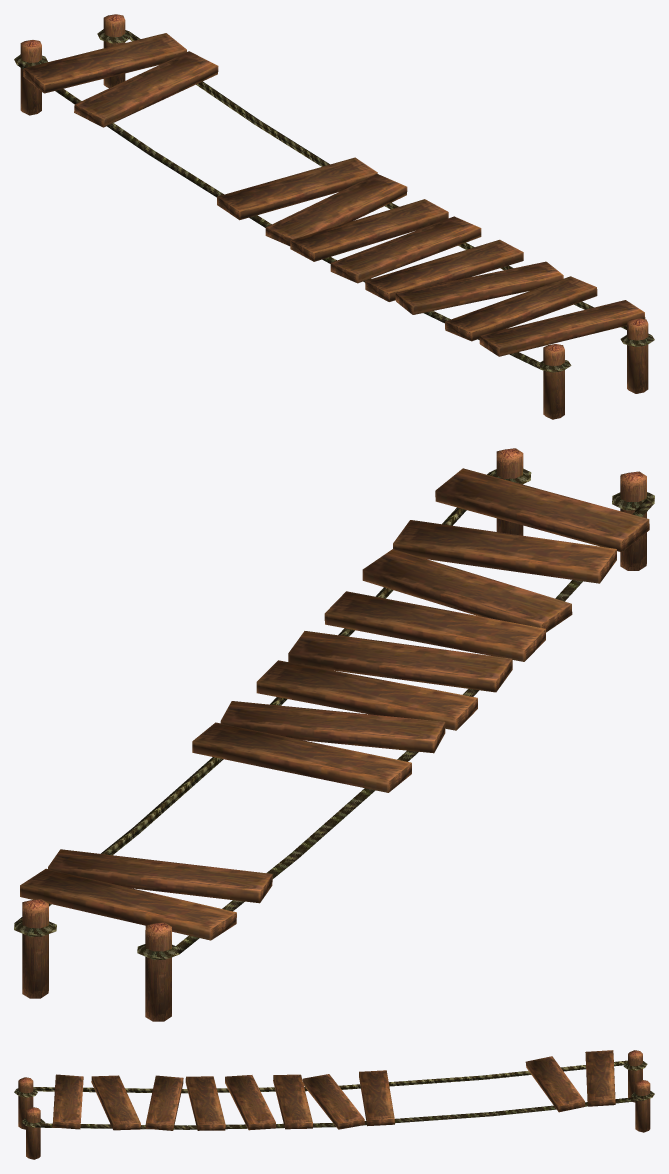
The model's file is SWORDLIGHT20_MAINCAVERNBRIDGE04.fbx.
3 renders of one model, top to bottom at view 1: azimuth 30°, elevation 25°; view 2: azimuth 150°, elevation 25°; view 3: azimuth 270°, elevation 25°, orthographic. The views are drawn at different scales.
Visible parts, largest first — view 1: SWORDLIGHT20_MAINCAVERNBRIDGE04; view 2: SWORDLIGHT20_MAINCAVERNBRIDGE04; view 3: SWORDLIGHT20_MAINCAVERNBRIDGE04.
Part boxes in pixels (x1=…): SWORDLIGHT20_MAINCAVERNBRIDGE04: x1=14, y1=14, x2=654, y2=419; SWORDLIGHT20_MAINCAVERNBRIDGE04: x1=14, y1=448, x2=654, y2=1021; SWORDLIGHT20_MAINCAVERNBRIDGE04: x1=14, y1=1050, x2=654, y2=1159.
Size of the model in its own units: 22448 by 7199 by 83803.
Materials: 4 (4 with a texture image).
